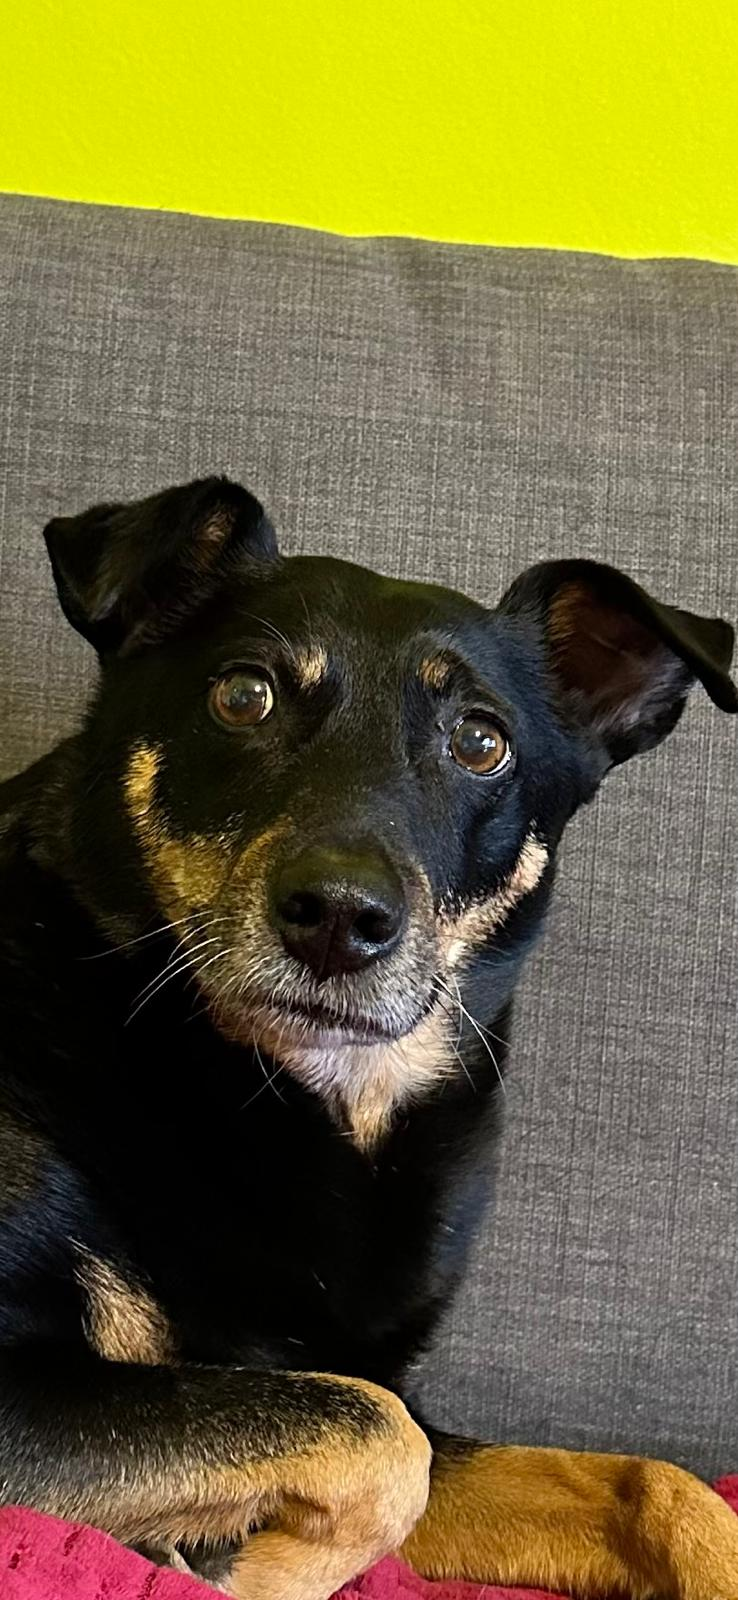reksio: (73, 450, 696, 1242)
